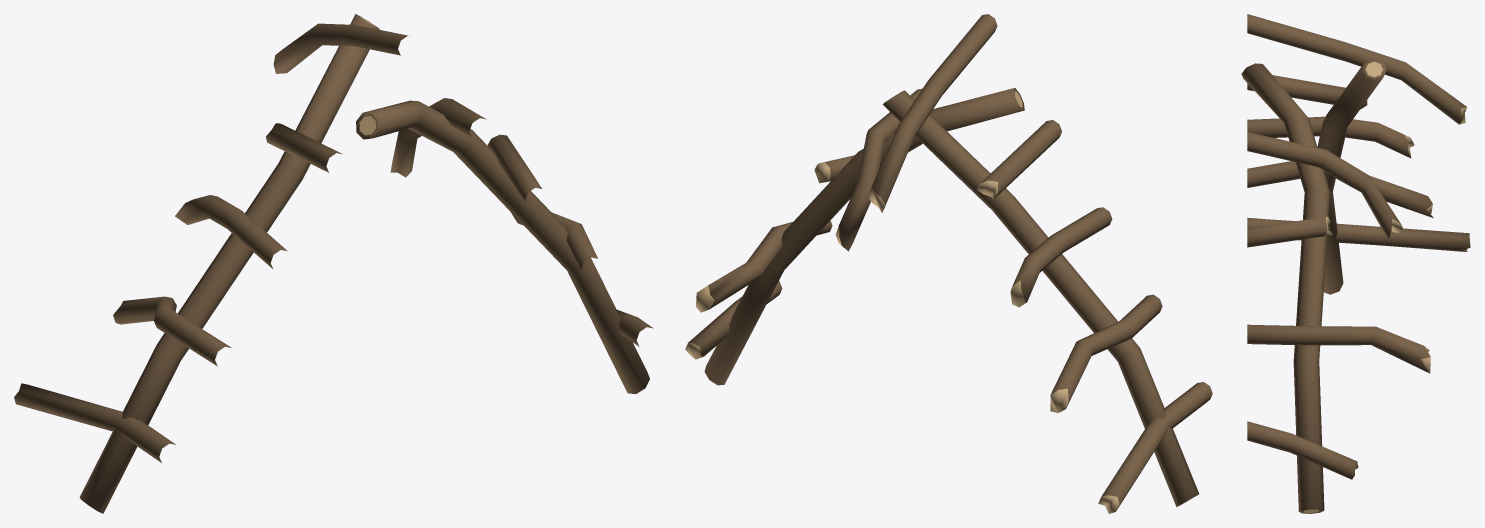
Rendered from rpgpp_av_roof_support_01_6x5x3_b.gltf.
3 renders of one model, left to right at view 1: azimuth 30°, elevation 25°; view 2: azimuth 150°, elevation 25°; view 3: azimuth 270°, elevation 25°, orthographic. The views are drawn at different scales.
Visible parts, largest first — view 1: rpgpp_av_roof_support_01_6x5x3_b; view 2: rpgpp_av_roof_support_01_6x5x3_b; view 3: rpgpp_av_roof_support_01_6x5x3_b.
Boxes of the visible parts, <box> form: rpgpp_av_roof_support_01_6x5x3_b: <box>14,14,653,513</box>; rpgpp_av_roof_support_01_6x5x3_b: <box>685,14,1212,513</box>; rpgpp_av_roof_support_01_6x5x3_b: <box>1241,14,1470,513</box>.
Bounding box in the file's own units: 0.0698 × 0.0537 × 0.0285.
1 material, 1 textured.
